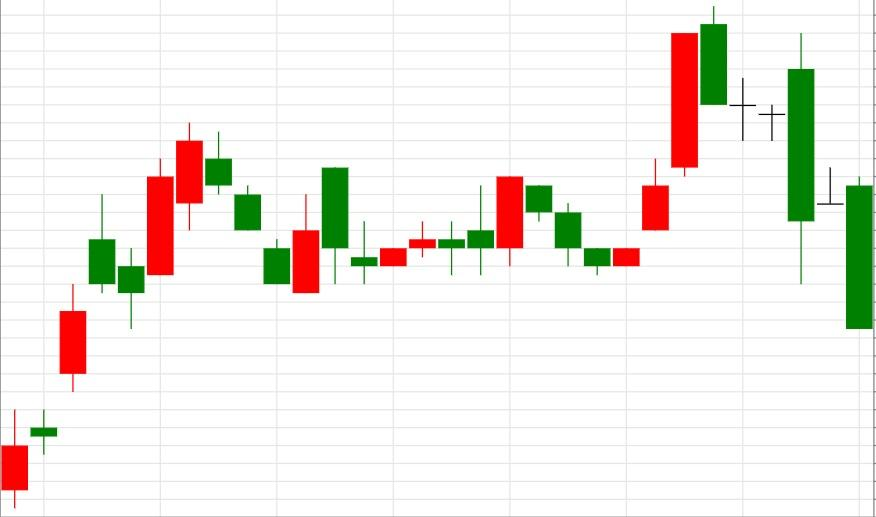bullish_engulfing_rise: (175, 122, 321, 294)
three_black_crows_fall: (349, 177, 611, 284)
three_white_soldiers_rise: (495, 32, 699, 275)
